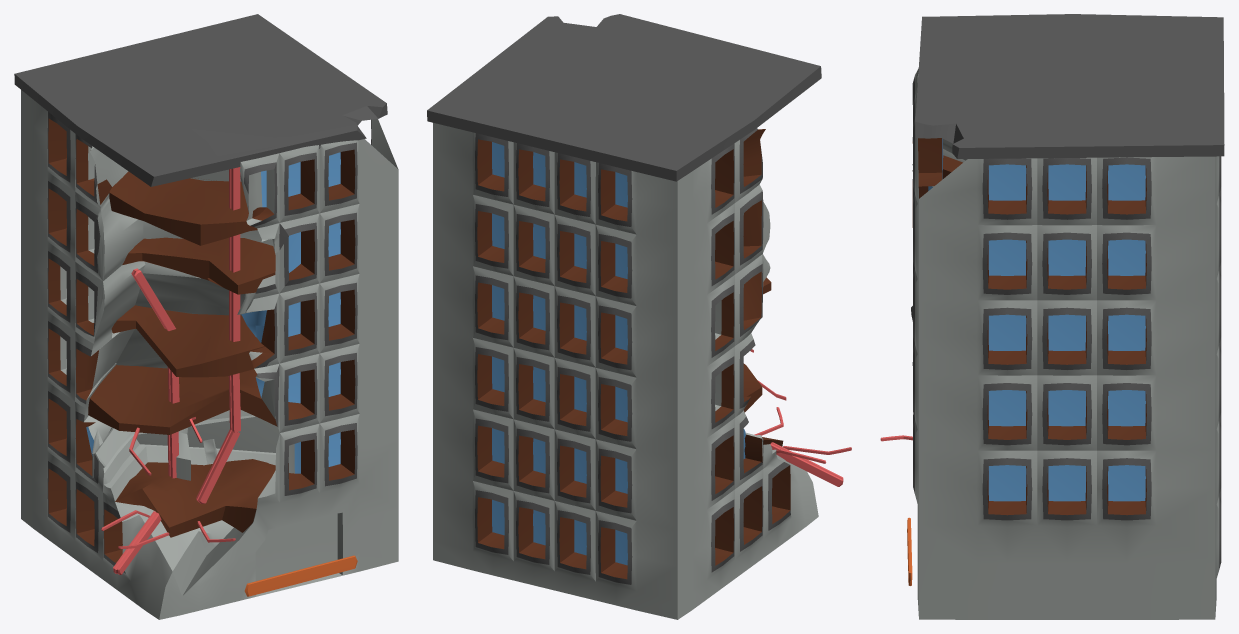
File: VigasLocalização.fbx
3 views of the same model, side by side, from view 1: azimuth 30°, elevation 25°; view 2: azimuth 150°, elevation 25°; view 3: azimuth 270°, elevation 25° (orthographic). The views are drawn at different scales.
Visible parts, largest first — view 1: PredioDestruido, VigasLocalização; view 2: PredioDestruido, VigasLocalização; view 3: PredioDestruido.
Part boxes in pixels (left/top/right/bottom): PredioDestruido: left=14, top=14, right=398, bottom=619; VigasLocalização: left=101, top=167, right=240, bottom=574; PredioDestruido: left=427, top=14, right=821, bottom=619; VigasLocalização: left=750, top=349, right=851, bottom=486; PredioDestruido: left=907, top=14, right=1224, bottom=619.
Size of the model in its own units: 1440 by 2154 by 1412.
